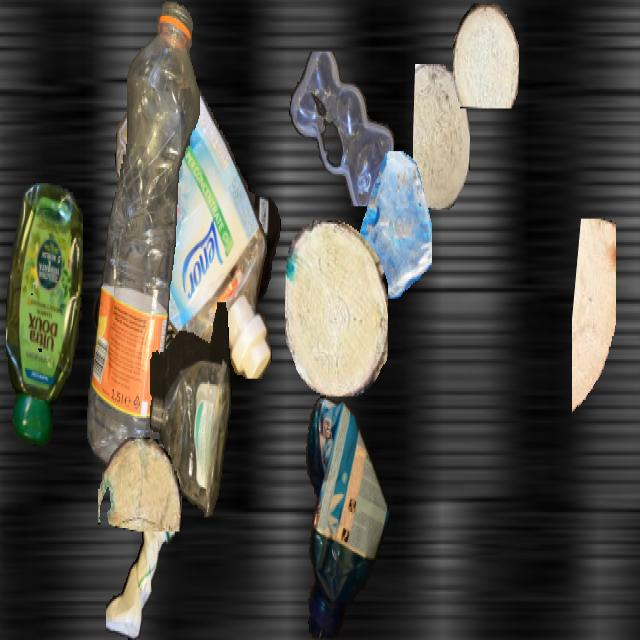glass: (349, 151, 431, 297)
plastic: (87, 2, 199, 471), (114, 71, 274, 377), (93, 197, 281, 439), (300, 393, 388, 638), (6, 183, 82, 446), (150, 302, 232, 519), (289, 52, 395, 205), (106, 489, 174, 638)
wood: (285, 220, 387, 394), (572, 219, 616, 425), (413, 64, 469, 210), (98, 437, 182, 530), (453, 3, 519, 106)
